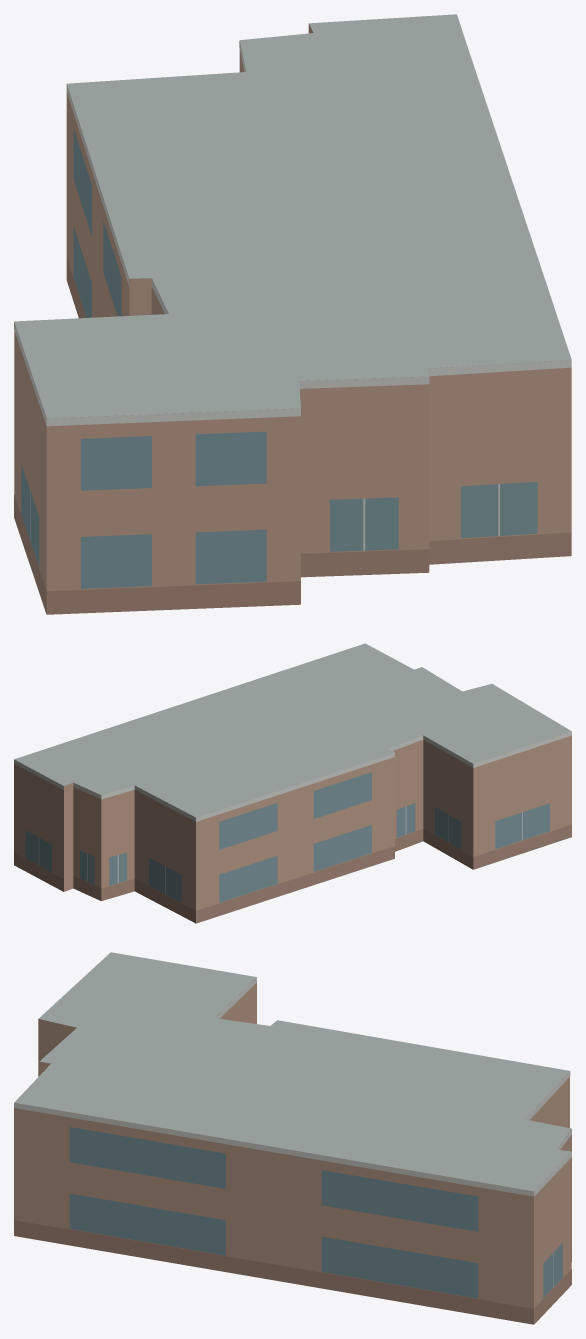
The model's file is survey-upis-32543336.glb.
The picture shows the model from 3 angles, top to bottom: view 1: azimuth 30°, elevation 25°; view 2: azimuth 150°, elevation 25°; view 3: azimuth 270°, elevation 25°; orthographic projection. The views are drawn at different scales.
Visible parts, largest first — view 1: survey-upis-32543336.tmp; view 2: survey-upis-32543336.tmp; view 3: survey-upis-32543336.tmp.
Boxes of the visible parts, x1,y1,x2,y2 form: survey-upis-32543336.tmp: [14, 14, 571, 614]; survey-upis-32543336.tmp: [14, 643, 571, 923]; survey-upis-32543336.tmp: [14, 952, 571, 1324].
Size of the model in its own units: 23.49 by 6.1 by 23.15.
